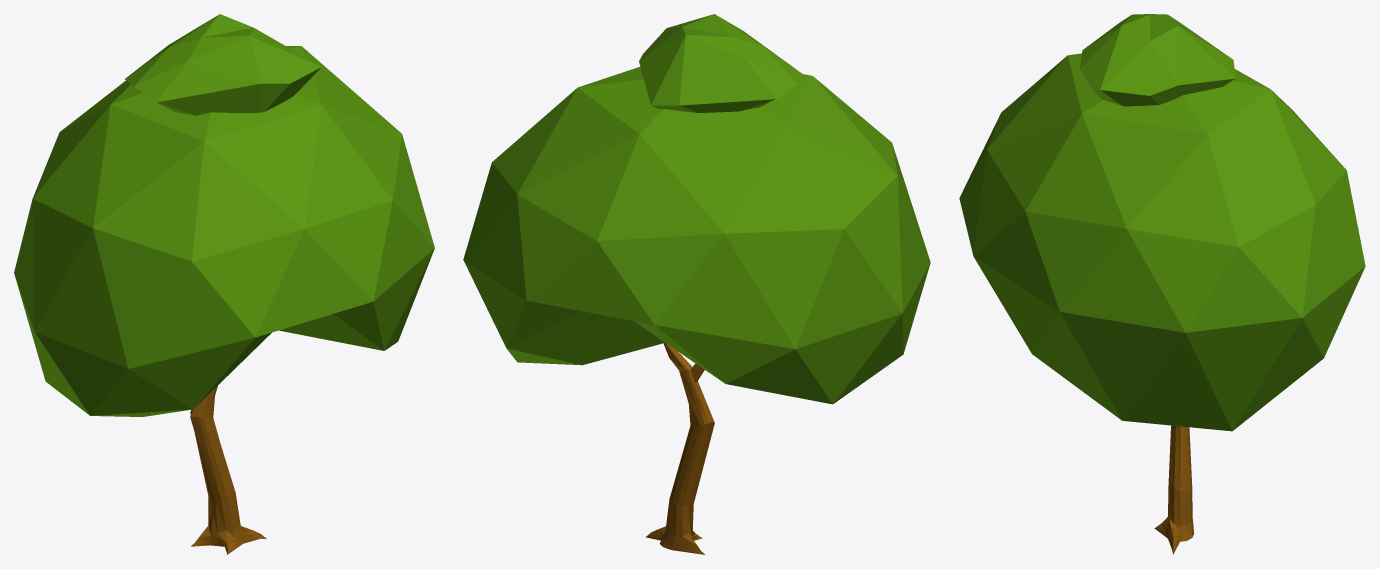
Rendered from arvore_2.glb.
3 renders of one model, left to right at view 1: azimuth 30°, elevation 25°; view 2: azimuth 150°, elevation 25°; view 3: azimuth 270°, elevation 25°, orthographic. The views are drawn at different scales.
Parts seen in each view (by area): view 1: skp665F1, Cylinder_5; view 2: skp665F1, Cylinder_5; view 3: skp665F1, Cylinder_5.
Part boxes in pixels (bbox=[...]): skp665F1: bbox=[14, 14, 434, 416]; Cylinder_5: bbox=[190, 386, 266, 554]; skp665F1: bbox=[463, 14, 930, 404]; Cylinder_5: bbox=[645, 343, 714, 554]; skp665F1: bbox=[959, 14, 1365, 431]; Cylinder_5: bbox=[1154, 425, 1194, 554].
Size of the model in its own units: 140 by 177 by 128.
